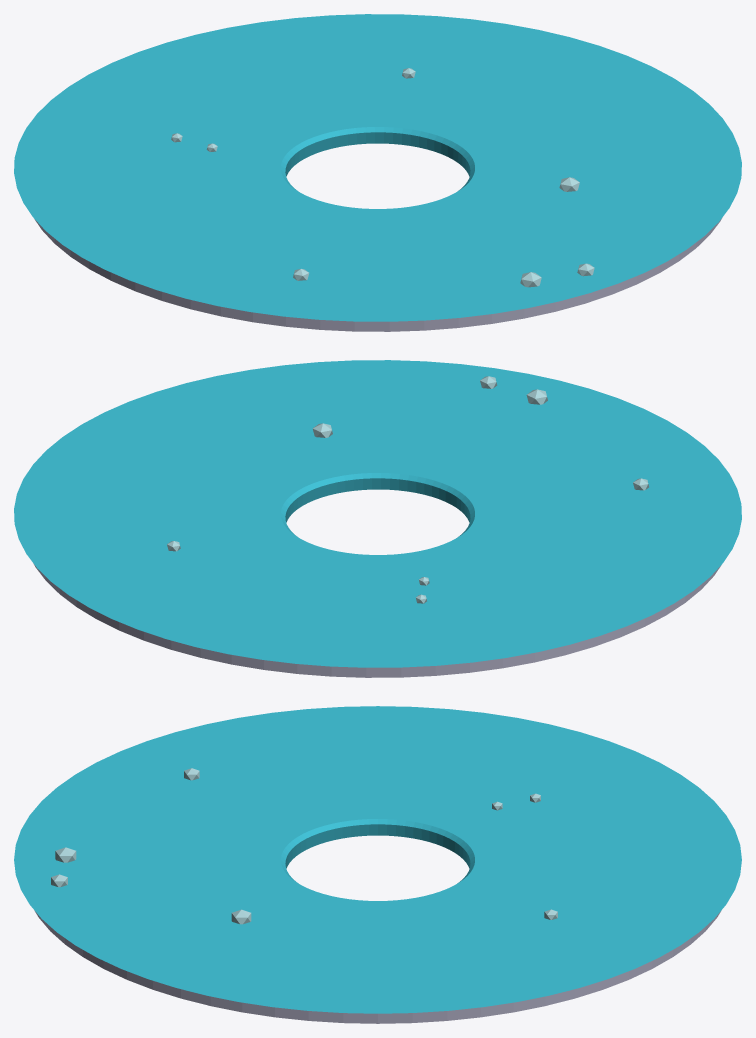
The model's file is goo_jar_deck_3@space.fbx.
The picture shows the model from 3 angles, top to bottom: view 1: azimuth 30°, elevation 25°; view 2: azimuth 150°, elevation 25°; view 3: azimuth 270°, elevation 25°; orthographic projection.
Parts seen in each view (by area): view 1: goo_jar_deck_3; view 2: goo_jar_deck_3; view 3: goo_jar_deck_3.
Boxes of the visible parts, <box> form: goo_jar_deck_3: <box>14,14,741,331</box>; goo_jar_deck_3: <box>14,360,741,677</box>; goo_jar_deck_3: <box>14,706,741,1023</box>.
Bounding box in the file's own units: 47.2 × 1.84 × 47.2.
